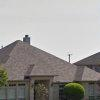Chimney: (17, 30, 45, 56)
